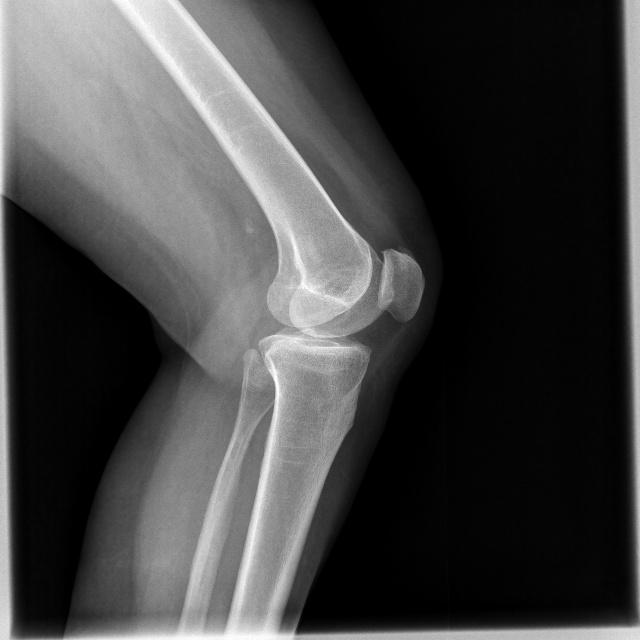Knee: (254, 240, 422, 413)
